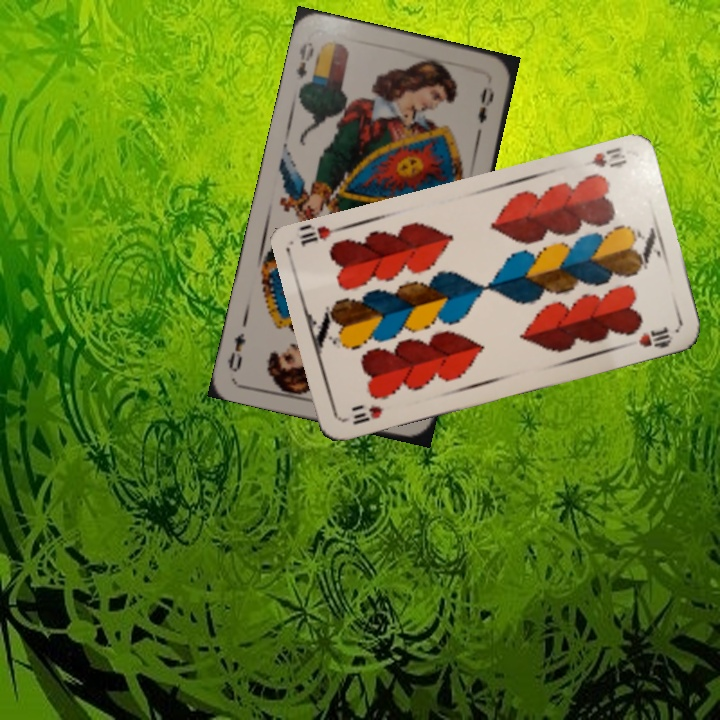EO: (292, 38, 317, 81)
H10: (579, 143, 629, 170), (340, 400, 385, 428)
